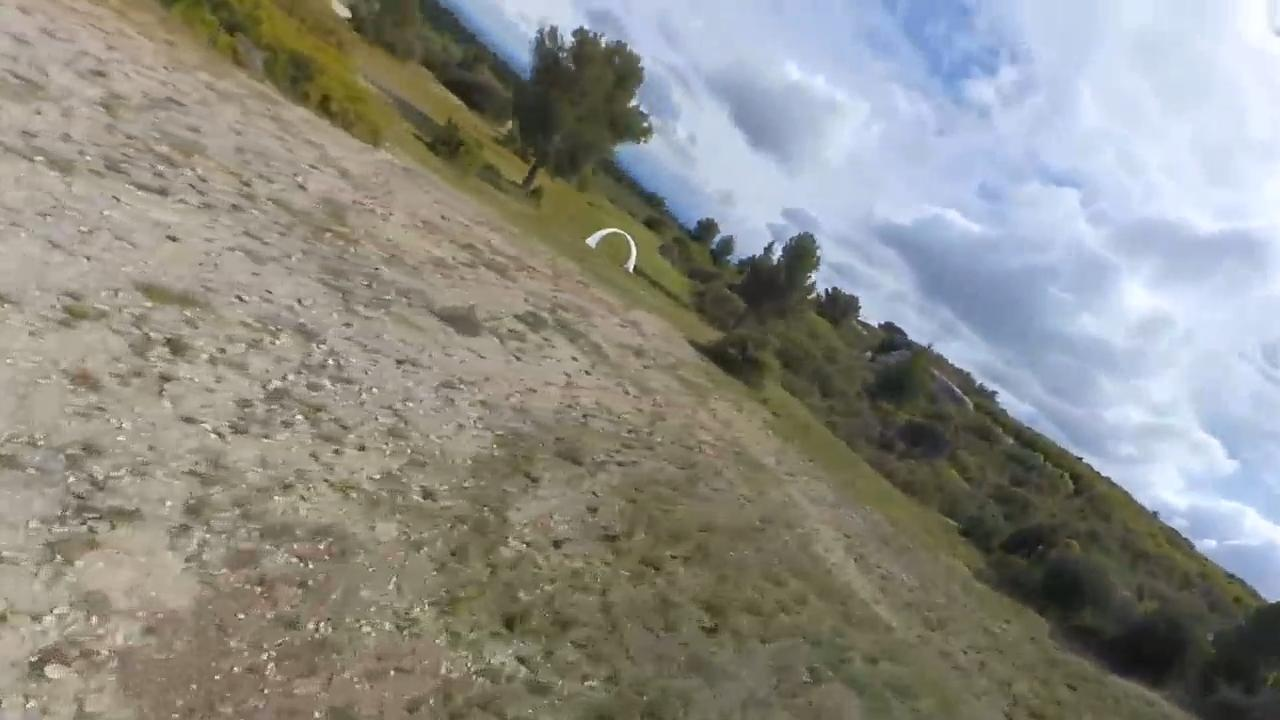gate: (585, 226, 638, 273)
